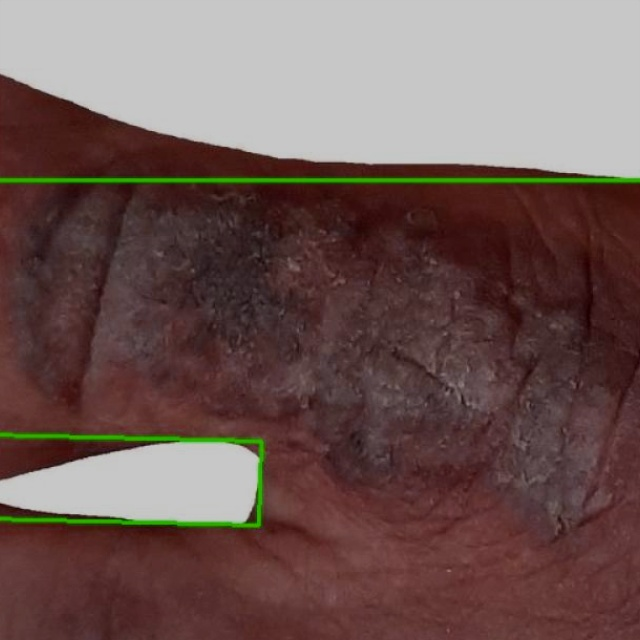Contact Dermatitis: (0, 0, 639, 180), (0, 435, 262, 526)
